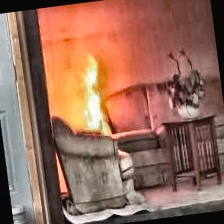fire: (73, 51, 113, 137)
